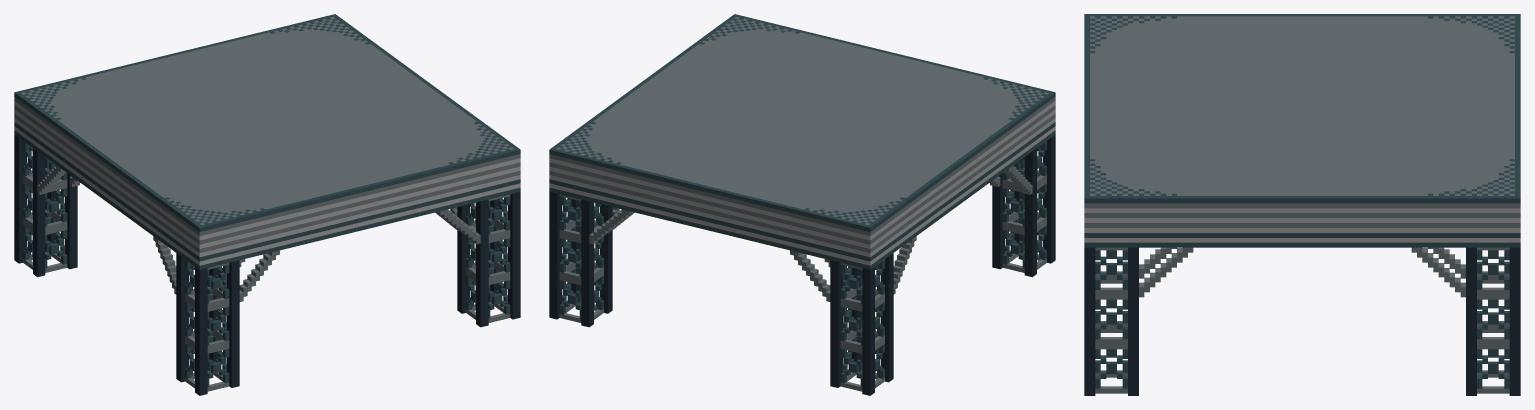
File: bridge2_legs.obj
The picture shows the model from 3 angles, left to right: view 1: azimuth 30°, elevation 25°; view 2: azimuth 150°, elevation 25°; view 3: azimuth 270°, elevation 25°; orthographic projection. The views are drawn at different scales.
Bounding box in the file's own units: 8 × 4 × 8.
1 material, 1 textured.
